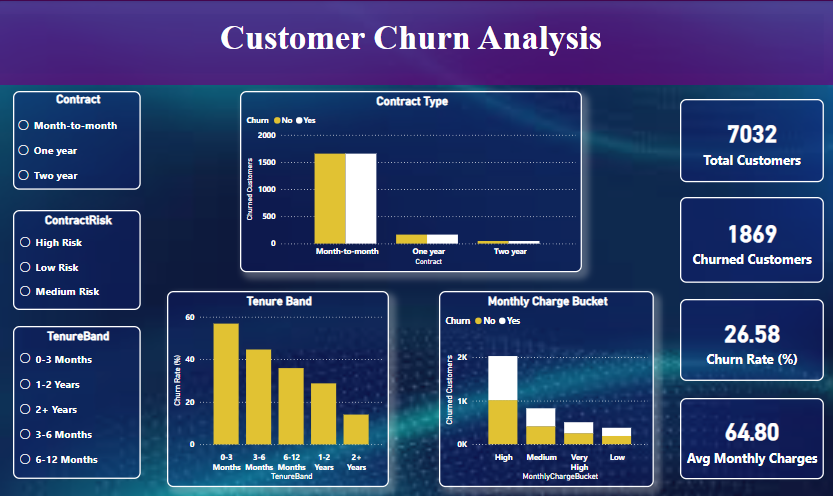

Layout of this report page (visuals, bound fields, positions):
{"tool":"powerbi","page":{"name":"Page 1","canvas":[1300,775],"ordinal":0},"visuals":[{"type":"card","fields":{"Values":["telecom_churn_final.Total Customers"]},"box":[1057.1,153.5,223.2,128.7],"z":0},{"type":"card","fields":{"Values":["telecom_churn_final.Churned Customers"]},"box":[1057.1,305.4,223.2,133.3],"z":1000},{"type":"card","fields":{"Values":["telecom_churn_final.Churn Rate (%)"]},"box":[1057.1,463.4,223.2,127.1],"z":2000},{"type":"card","fields":{"Values":["telecom_churn_final.Avg Monthly Charges"]},"box":[1057.1,616.9,223.2,125.5],"z":3000},{"type":"clusteredColumnChart","title":"Contract Type","fields":{"Category":["telecom_churn_final.Contract"],"Y":["telecom_churn_final.Churned Customers"],"Series":["telecom_churn_final.Churn"]},"box":[375.1,141.1,530.1,280.6],"z":4000},{"type":"clusteredColumnChart","title":"Tenure Band","fields":{"Category":["telecom_churn_final.TenureBand"],"Y":["telecom_churn_final.Churn Rate (%)"]},"box":[261.9,451.1,344.1,303.8],"z":5000},{"type":"columnChart","title":"Monthly Charge Bucket","fields":{"Category":["telecom_churn_final.MonthlyChargeBucket"],"Y":["telecom_churn_final.Churned Customers"],"Series":["telecom_churn_final.Churn"]},"box":[683.6,451.1,333.2,303.8],"z":6000},{"type":"listSlicer","fields":{"Values":["telecom_churn_final.Contract"]},"box":[23.2,141.1,198.4,153.5],"z":7000},{"type":"listSlicer","fields":{"Values":["telecom_churn_final.TenureBand"]},"box":[23.2,505.3,198.4,237.2],"z":8000},{"type":"listSlicer","fields":{"Values":["telecom_churn_final.ContractRisk"]},"box":[23.2,325.5,198.4,155],"z":9000},{"type":"shape","box":[0,0,1300.5,131.8],"z":10000},{"type":"textbox","box":[0,21.6,1280.2,92.2],"z":11000}]}

Visuals, with their boxes in screenshot pixels (x1, y1, x2, y2), scaled from the page's 1300x775 canvas onto the 833x496 screenshot:
card - telecom_churn_final.Total Customers: [left=677, top=98, right=820, bottom=181]
card - telecom_churn_final.Churned Customers: [left=677, top=195, right=820, bottom=281]
card - telecom_churn_final.Churn Rate (%): [left=677, top=297, right=820, bottom=378]
card - telecom_churn_final.Avg Monthly Charges: [left=677, top=395, right=820, bottom=475]
"Contract Type" clusteredColumnChart: [left=240, top=90, right=580, bottom=270]
"Tenure Band" clusteredColumnChart: [left=168, top=289, right=388, bottom=483]
"Monthly Charge Bucket" columnChart: [left=438, top=289, right=652, bottom=483]
listSlicer - telecom_churn_final.Contract: [left=15, top=90, right=142, bottom=189]
listSlicer - telecom_churn_final.TenureBand: [left=15, top=323, right=142, bottom=475]
listSlicer - telecom_churn_final.ContractRisk: [left=15, top=208, right=142, bottom=308]
shape: [left=0, top=0, right=832, bottom=84]
textbox: [left=0, top=14, right=820, bottom=73]
